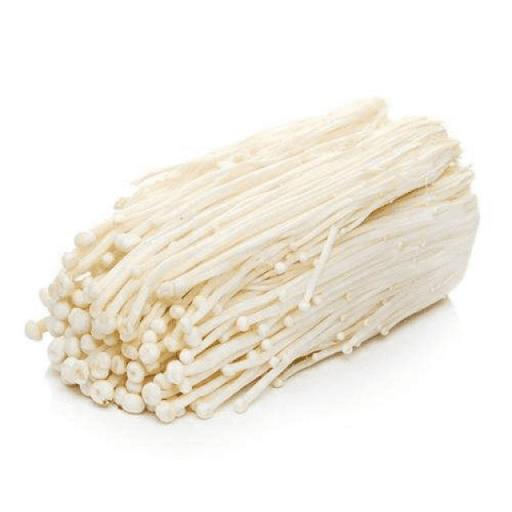Enoki Mushroom: (25, 96, 481, 419)
